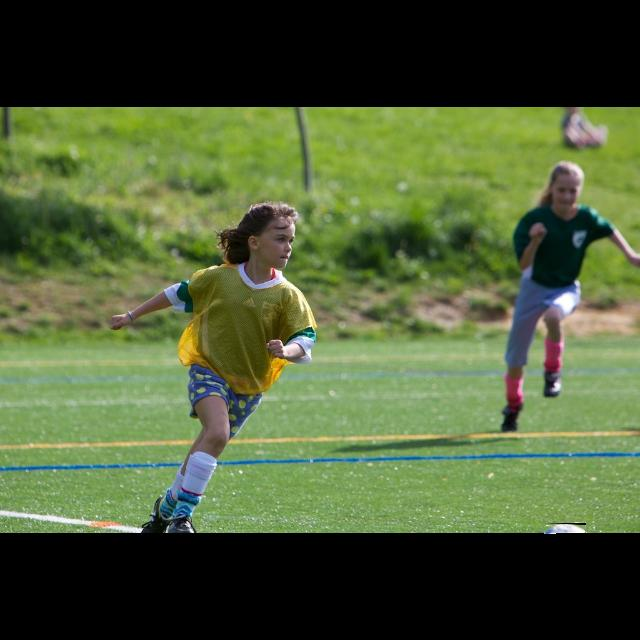Football: (544, 523, 586, 533)
